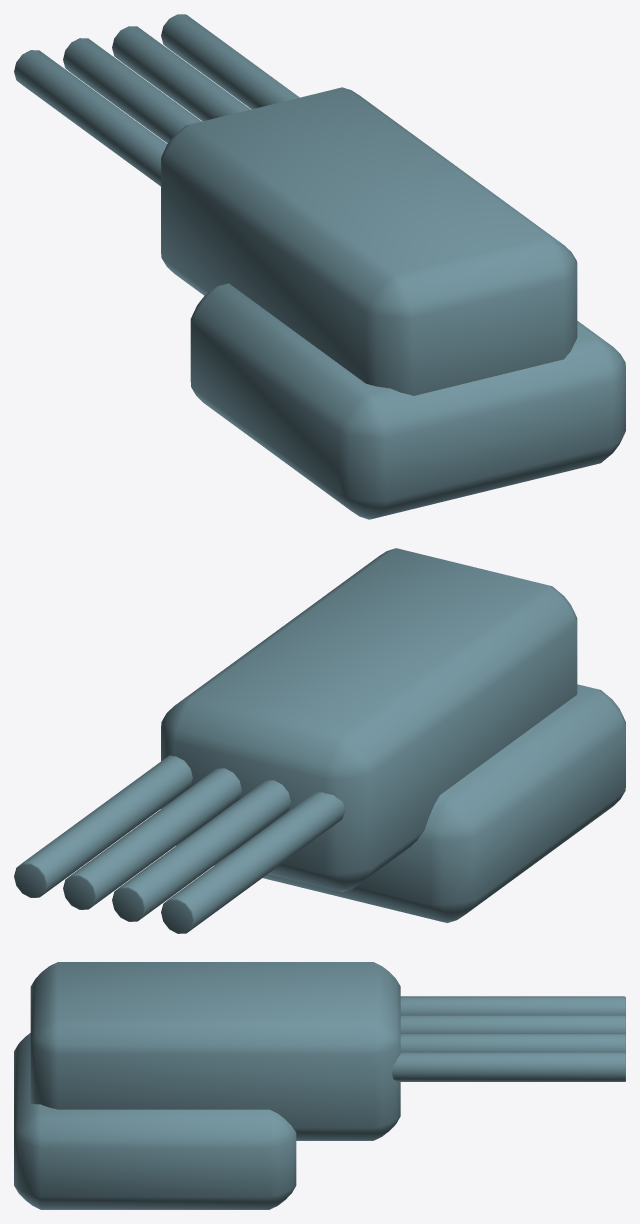
Rendered from KineticRepeater.fbx.
3 renders of one model, top to bottom at view 1: azimuth 30°, elevation 25°; view 2: azimuth 150°, elevation 25°; view 3: azimuth 270°, elevation 25°, orthographic. The views are drawn at different scales.
Visible parts, largest first — view 1: Render_LOD0; view 2: Render_LOD0; view 3: Render_LOD0.
Part boxes in pixels (x1,y1,x2,y2): Render_LOD0: (14,14,625,519); Render_LOD0: (14,548,625,933); Render_LOD0: (14,962,625,1209).
Size of what is drawn, in the model's own units: 0.76 by 0.58 by 1.82.
